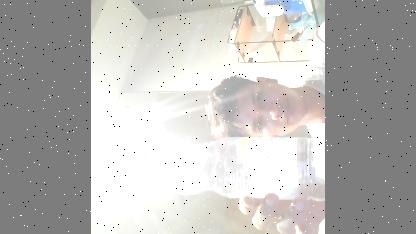Plastic Bottle: (129, 136, 322, 198)
